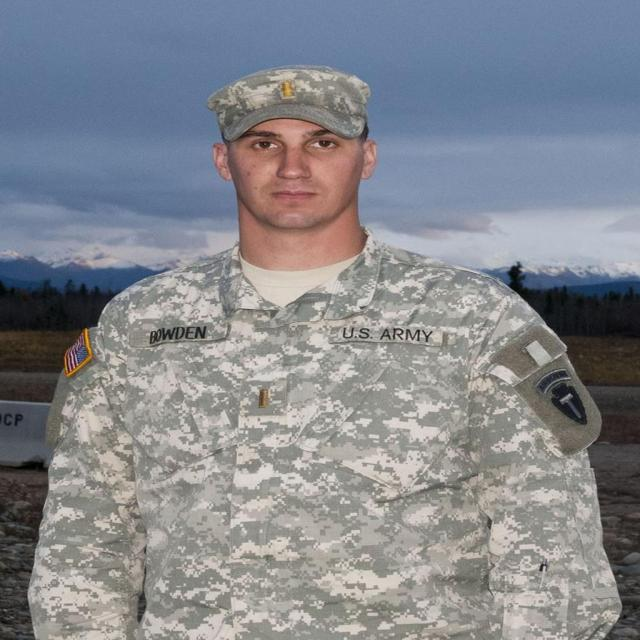Face: (224, 105, 367, 241)
